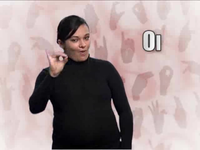oi: (44, 46, 70, 75)
